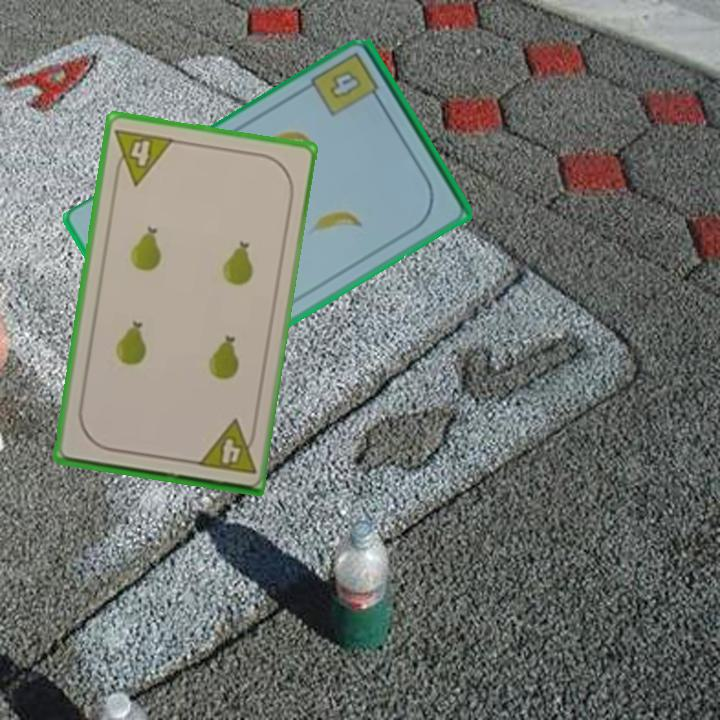4b: (308, 49, 386, 120)
4p: (109, 124, 177, 188), (193, 416, 259, 477)
